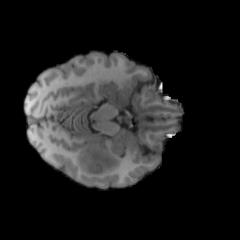glioma: (76, 143, 119, 174)
